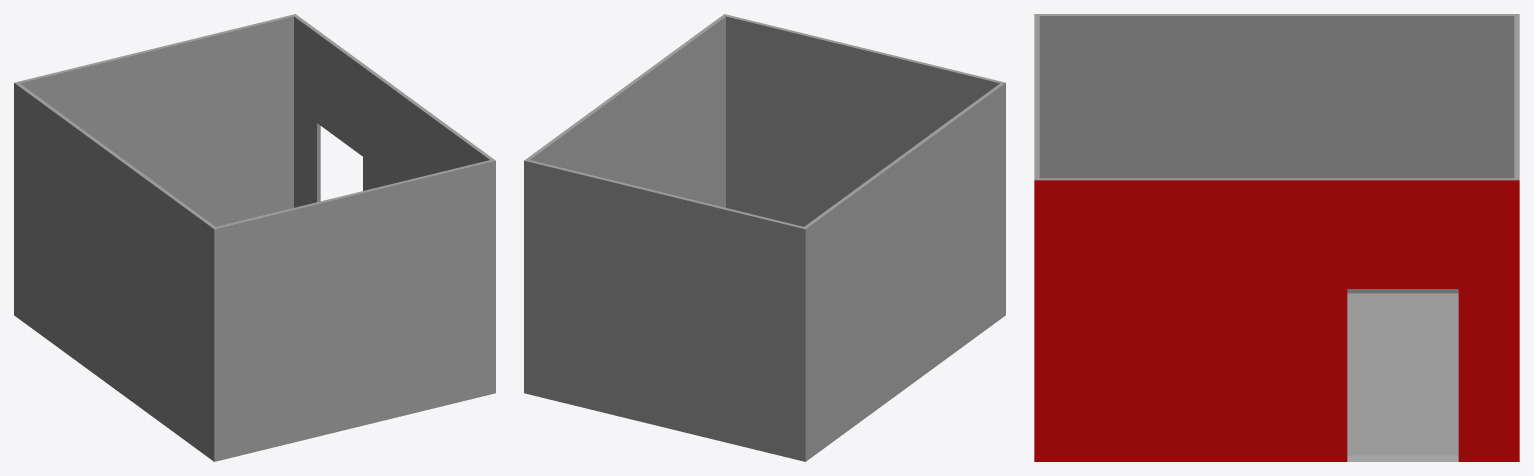
File: room3.fbx
The picture shows the model from 3 angles, left to right: view 1: azimuth 30°, elevation 25°; view 2: azimuth 150°, elevation 25°; view 3: azimuth 270°, elevation 25°; orthographic projection. The views are drawn at different scales.
Visible parts, largest first — view 1: room3; view 2: room3; view 3: room3.
Boxes of the visible parts, x1,y1,x2,y2 form: room3: (14,14,495,461); room3: (524,14,1005,461); room3: (1034,14,1519,461).
Bounding box in the file's own units: 3.86 × 3.05 × 4.76.
